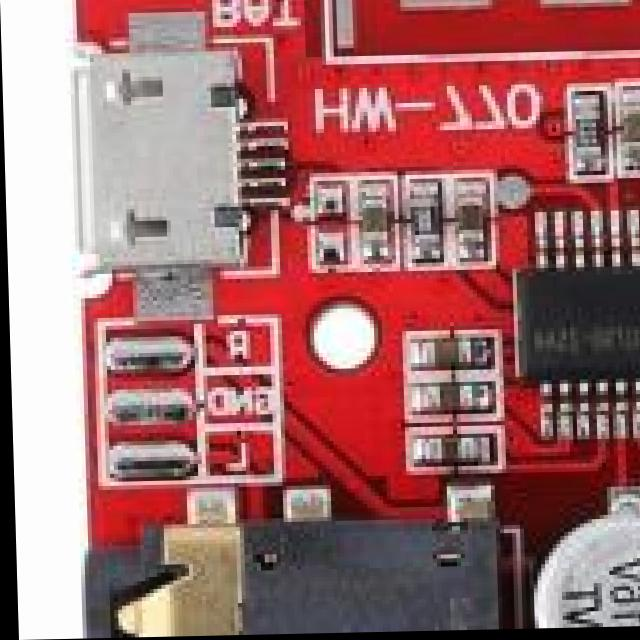IC: (525, 221, 640, 419)
capacitor: (528, 497, 640, 631), (414, 428, 491, 465), (413, 384, 482, 417), (420, 338, 475, 373), (361, 195, 390, 250), (453, 196, 482, 248), (615, 101, 640, 161)
connector: (88, 504, 491, 639), (81, 30, 252, 263)
resistor: (567, 108, 594, 162), (413, 200, 436, 249)
